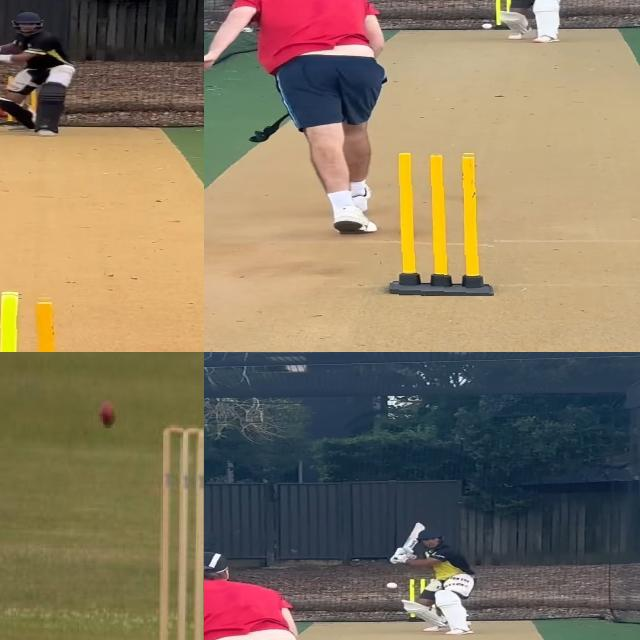Cricket ball: (98, 399, 120, 431), (384, 580, 400, 590), (481, 22, 495, 30)
Stumps: (385, 150, 494, 296)
